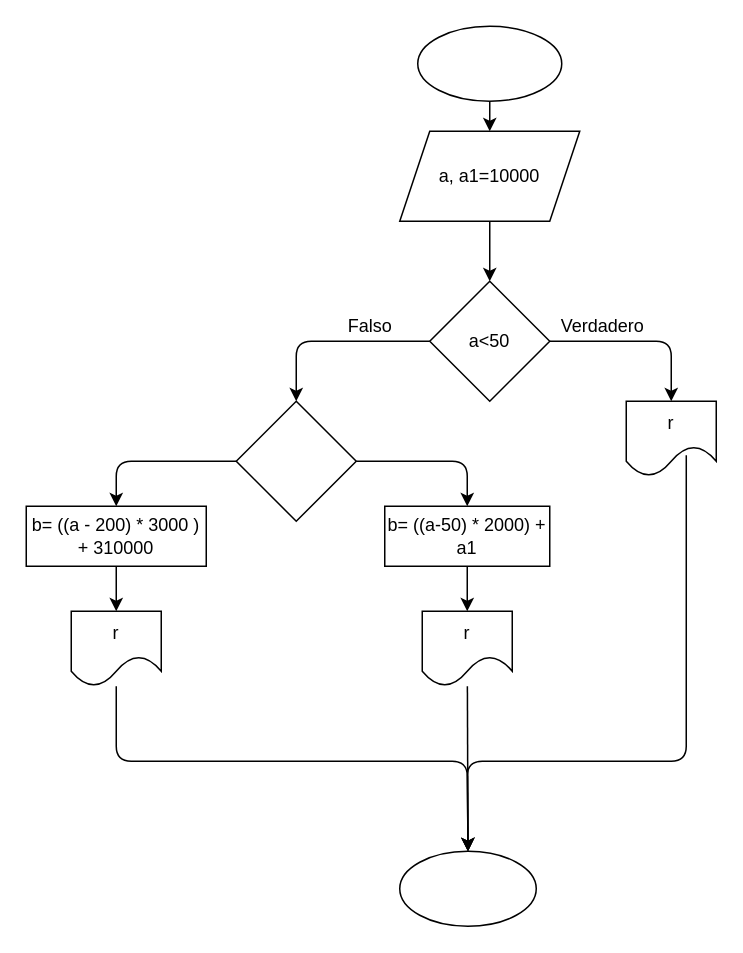
The diagram is 743 pixels wide and 953 high, and some of its shapes have lost their labels. The centre of each missing label's shape, as x and y in pixels:
"FIN" goes at [467,888].
"iNICIO" goes at [489,63].
"luk<50 or luk<200" goes at [295,460].
